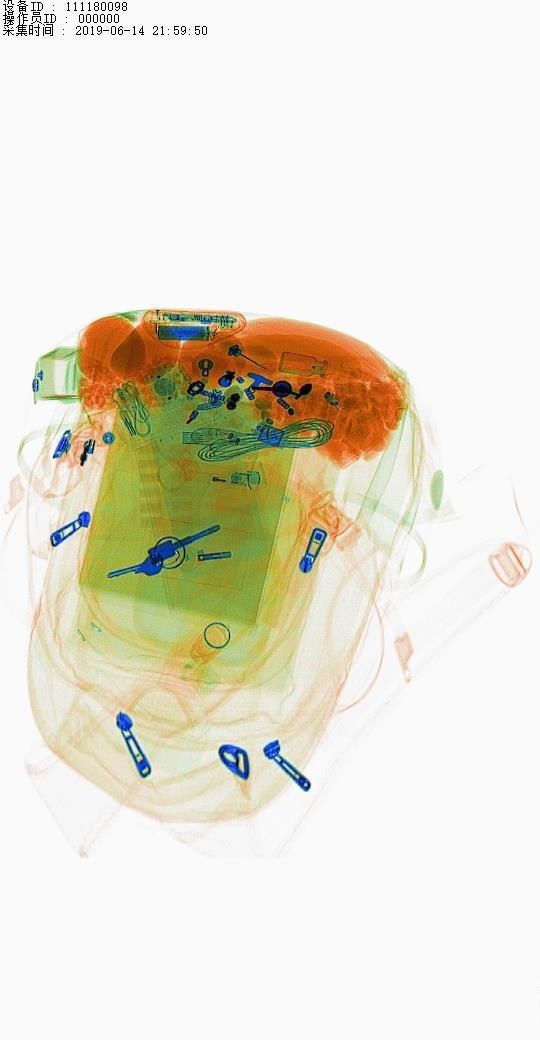NonmetallicFire: (158, 452, 273, 509)
